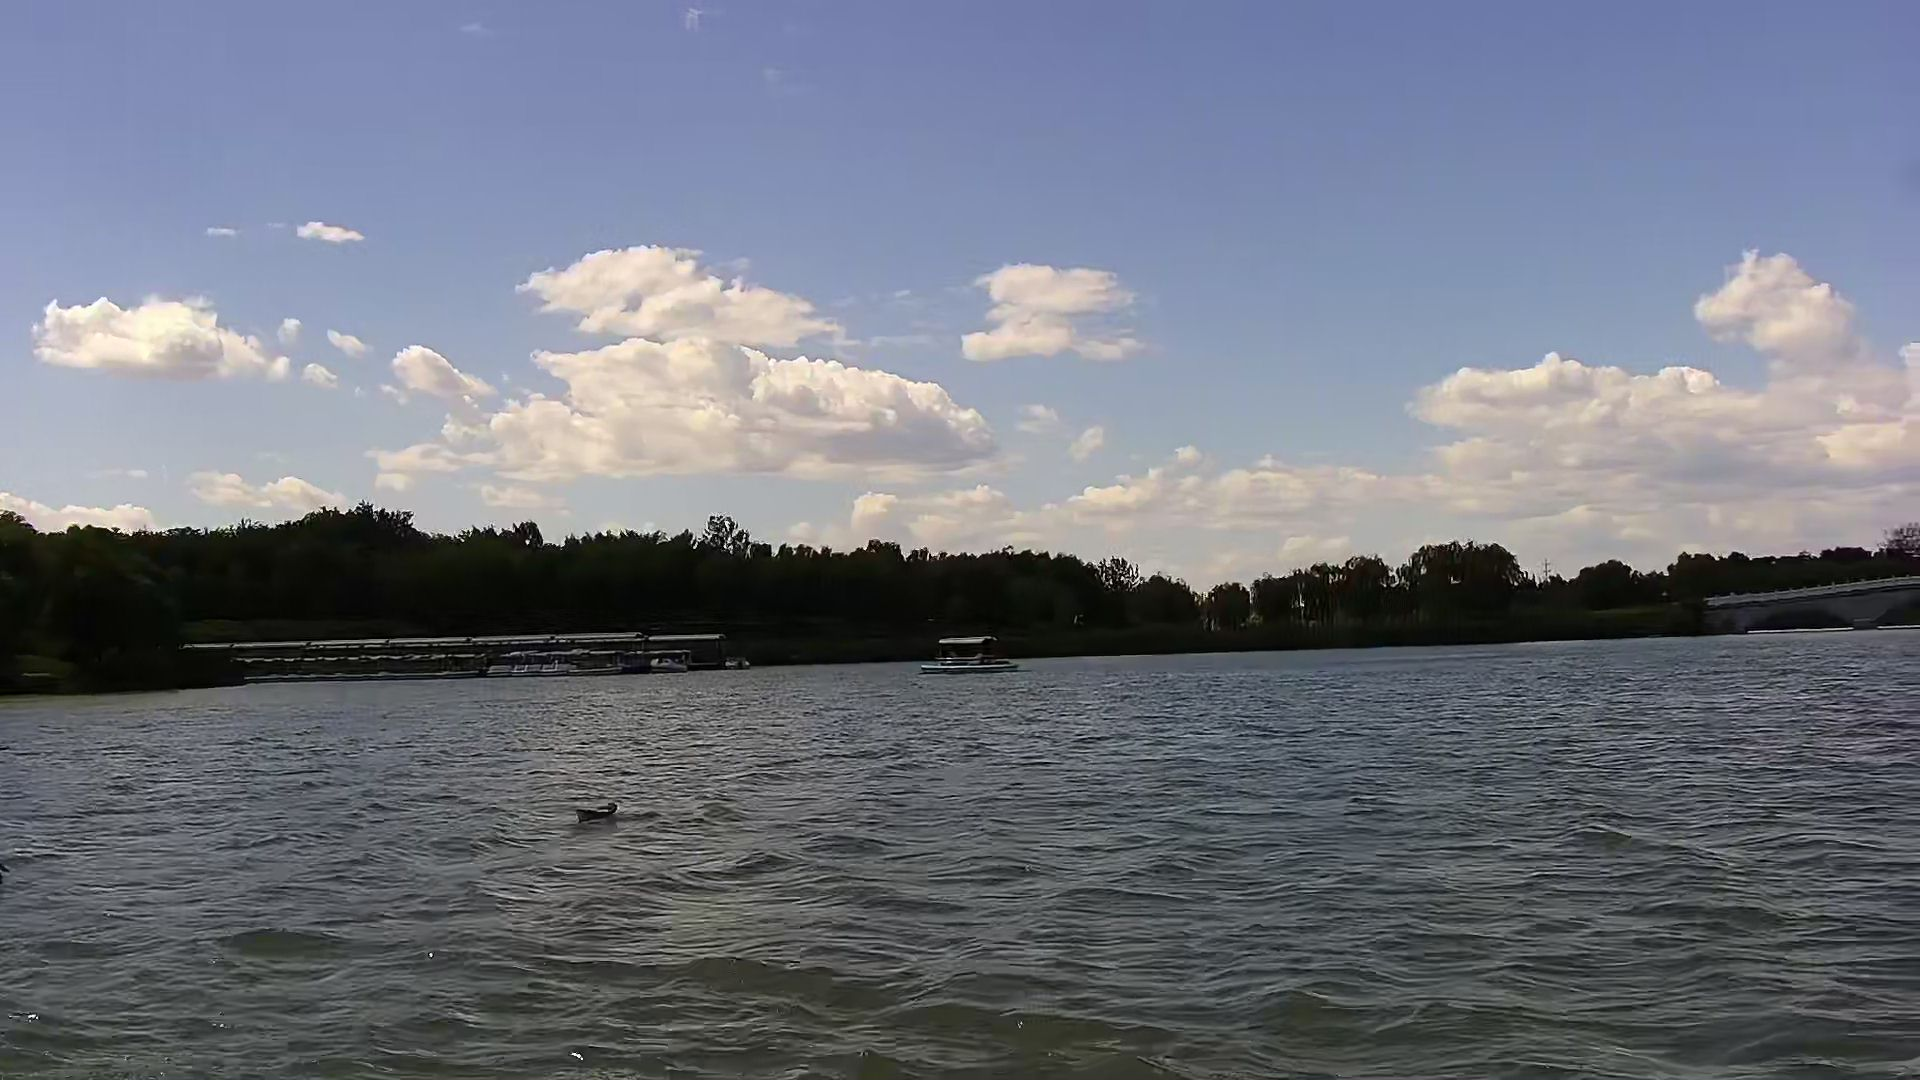animal: (572, 798, 621, 825)
boat: (920, 636, 1025, 674)
bridge: (1691, 582, 1920, 626)
harbor: (189, 640, 733, 678)
